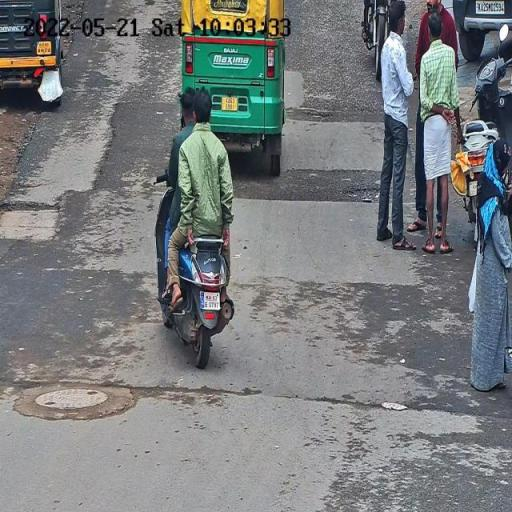numberplate: (200, 292, 220, 312)
using mobile: (176, 108, 186, 131)
